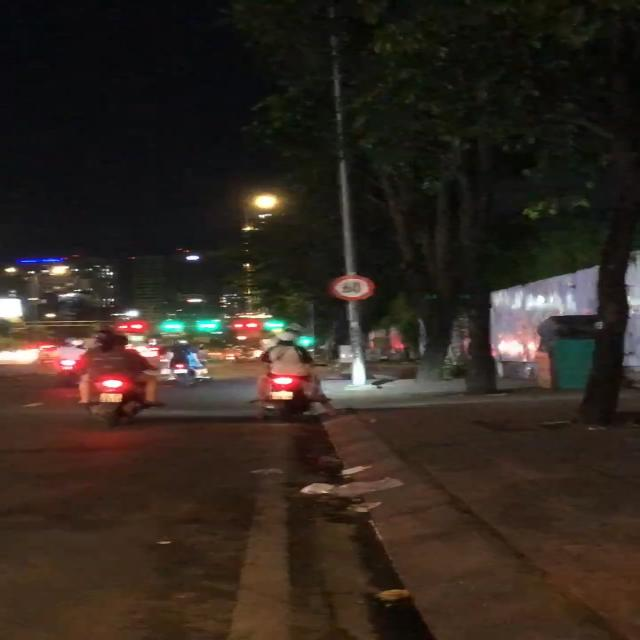Bien bao toc do toi da cho phep: (321, 270, 382, 304)
